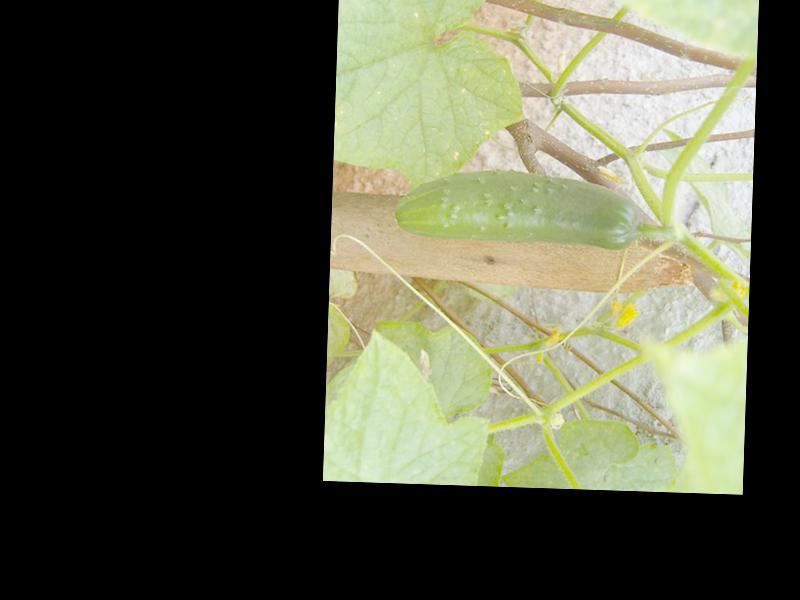Cucumber: (393, 166, 644, 251)
